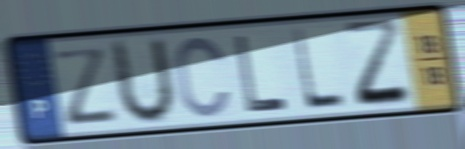C: (173, 33, 234, 121)
L: (289, 26, 349, 113), (232, 32, 291, 114)
U: (110, 33, 178, 129)
Z: (341, 16, 416, 111), (50, 44, 120, 128)
